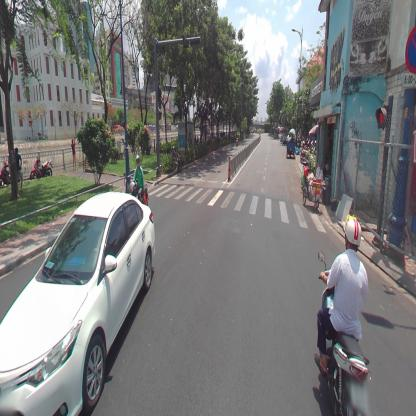Cam dung va do: (404, 25, 416, 73)
